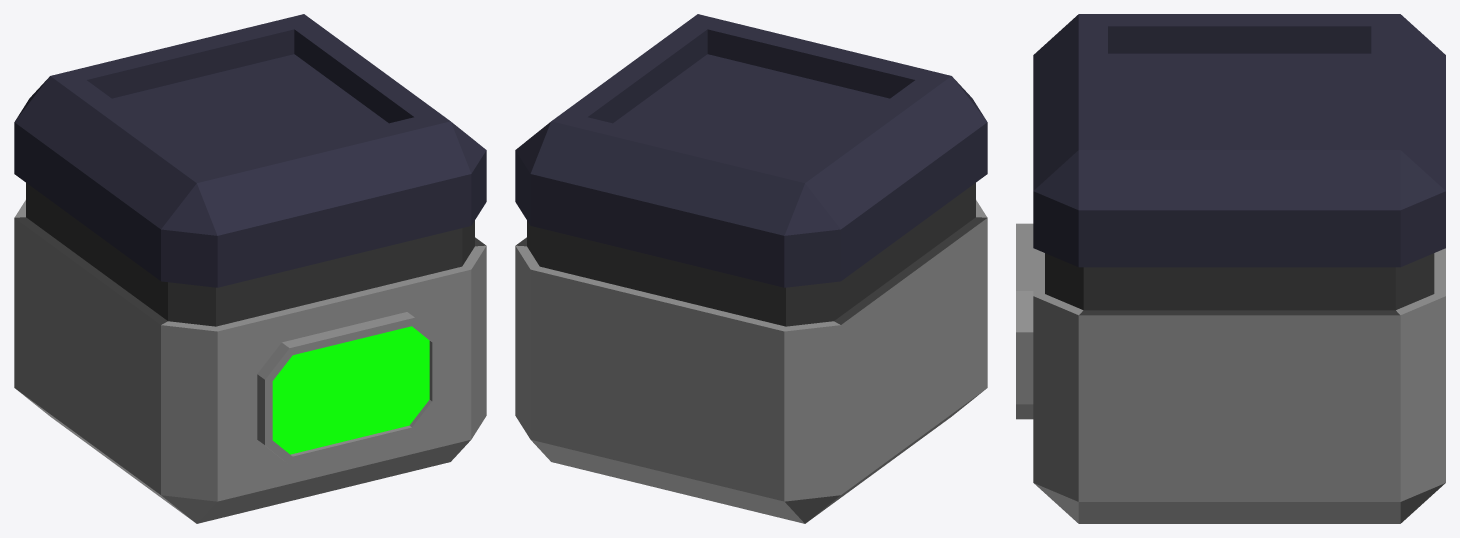
Rendered from MiniCrate.glb.
The picture shows the model from 3 angles, left to right: view 1: azimuth 30°, elevation 25°; view 2: azimuth 150°, elevation 25°; view 3: azimuth 270°, elevation 25°; orthographic projection. The views are drawn at different scales.
Visible parts, largest first — view 1: MiniCrate; view 2: MiniCrate; view 3: MiniCrate.
Boxes of the visible parts, bbox=[...] form: MiniCrate: bbox=[14, 14, 486, 523]; MiniCrate: bbox=[515, 14, 987, 523]; MiniCrate: bbox=[1016, 14, 1445, 523].
Size of the model in its own units: 0.3375 by 0.3375 by 0.3517.
